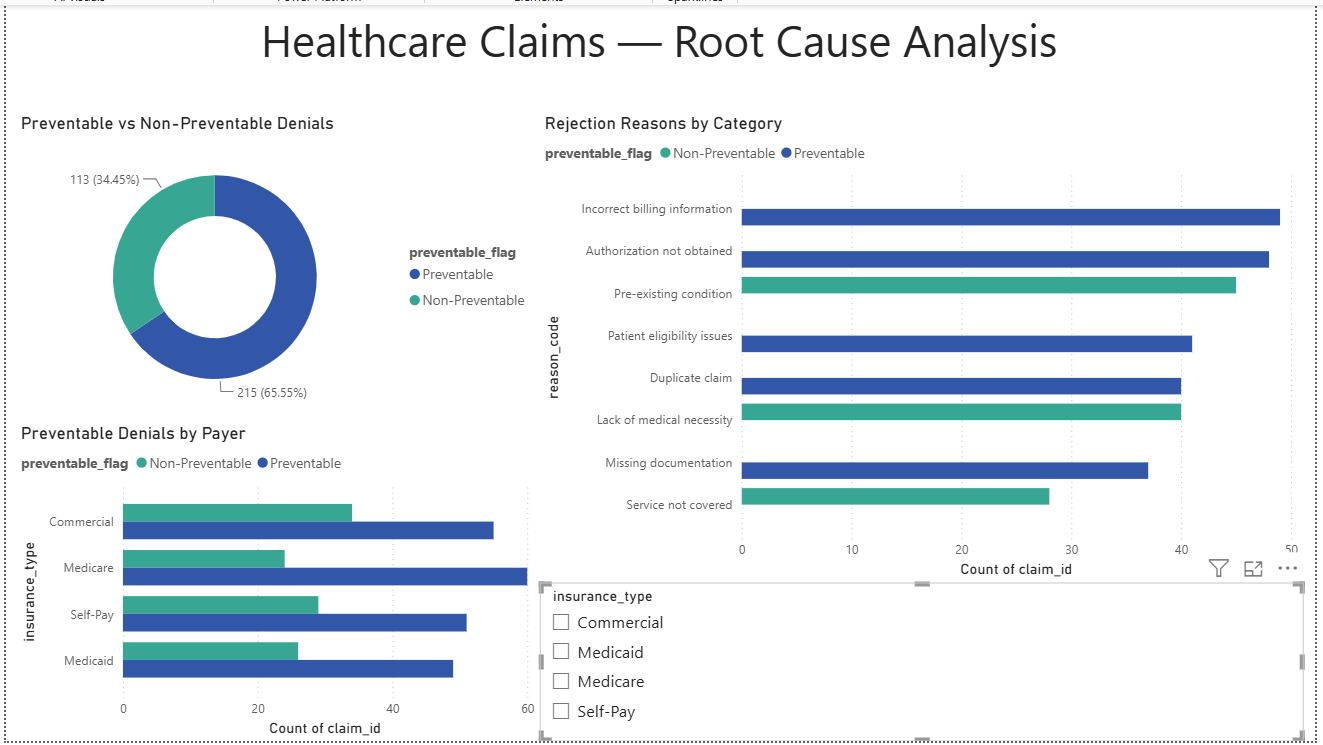

Layout of this report page (visuals, bound fields, positions):
{"tool":"powerbi","page":{"name":"Root Cause Analysis","canvas":[1280,720],"ordinal":3},"visuals":[{"type":"donutChart","title":"Preventable vs Non-Preventable Denials","fields":{"Category":["claims_final.preventable_flag"],"Y":["CountNonNull(claims_final.claim_id)"]},"box":[9.8,69.7,512.4,303.3],"z":0},{"type":"clusteredBarChart","title":"Preventable Denials by Payer","fields":{"Category":["claims_final.insurance_type"],"Y":["CountNonNull(claims_final.claim_id)"],"Series":["claims_final.preventable_flag"]},"box":[11,384,512.4,311.8],"z":1000},{"type":"clusteredBarChart","title":"Rejection Reasons by Category","fields":{"Category":["claims_final.reason_code"],"Y":["CountNonNull(claims_final.claim_id)"],"Series":["claims_final.preventable_flag"]},"box":[533.2,69.7,736.1,485.5],"z":2000},{"type":"textbox","box":[370.5,0,513.6,56.3],"z":3000},{"type":"slicer","fields":{"Values":["claims_final.insurance_type"]},"box":[1092,564.9,177.3,155.3],"z":4000}]}

Visuals, with their boxes on the page's 1280x720 design canvas (x1, y1, x2, y2). These are canvas units, not pixel positions in the 1323x745 screenshot, which may show the page scaled, cropped or inside an application window:
"Preventable vs Non-Preventable Denials" donutChart: crop(10, 70, 522, 373)
"Preventable Denials by Payer" clusteredBarChart: crop(11, 384, 523, 696)
"Rejection Reasons by Category" clusteredBarChart: crop(533, 70, 1269, 555)
textbox: crop(370, 0, 884, 56)
slicer - claims_final.insurance_type: crop(1092, 565, 1269, 720)
